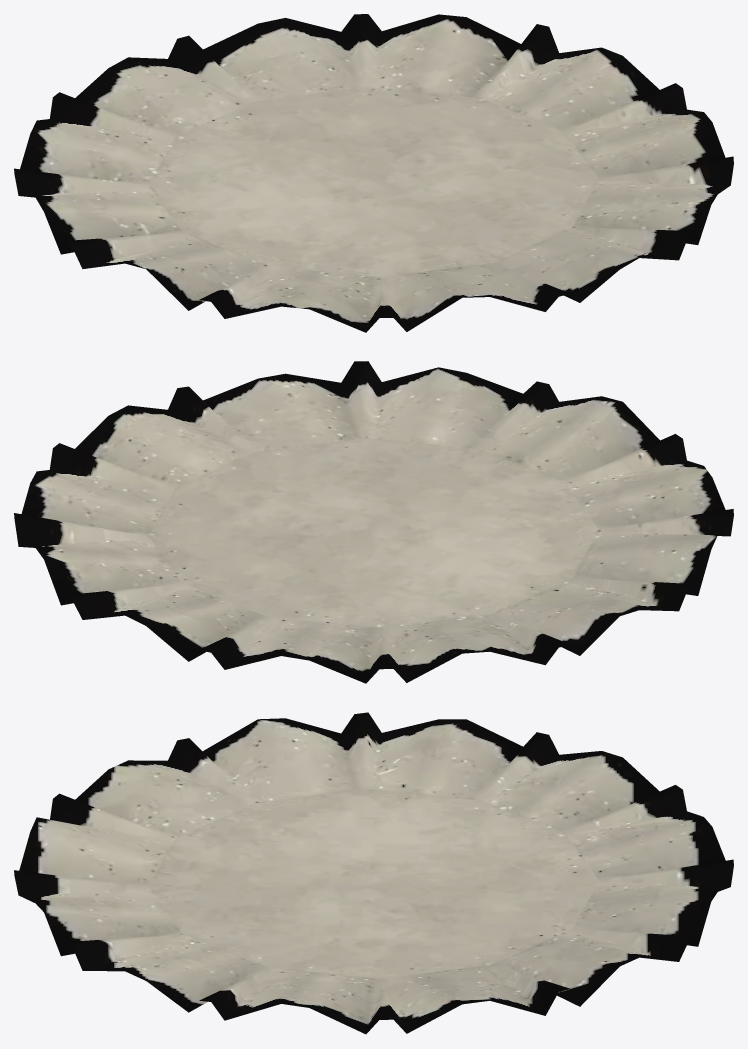
Rendered from SM_doily_7f1e08.glb.
3 renders of one model, top to bottom at view 1: azimuth 30°, elevation 25°; view 2: azimuth 150°, elevation 25°; view 3: azimuth 270°, elevation 25°, orthographic.
Size of the model in its own units: 0.3144 by 0.0132 by 0.3144.
Materials: 1 (1 with a texture image).
